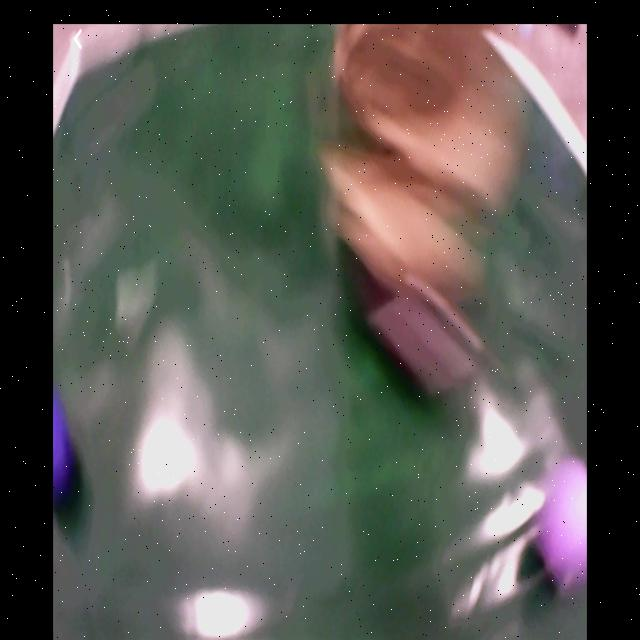ball: (538, 455, 587, 593), (52, 397, 73, 503)
